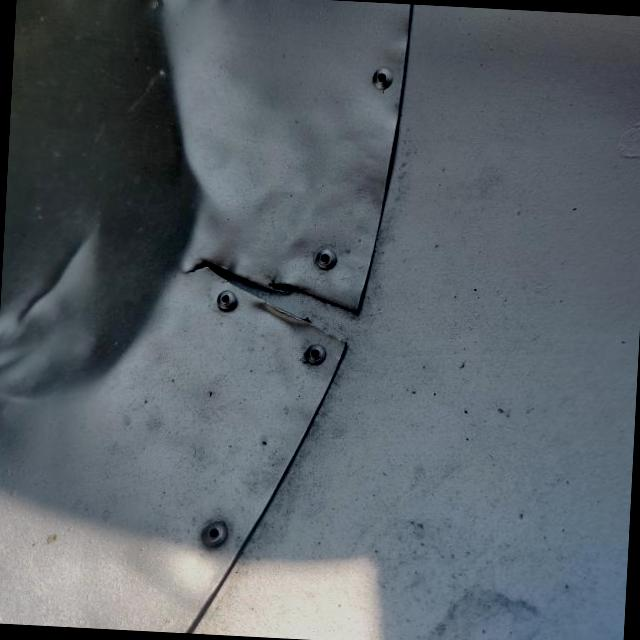dent: (0, 0, 207, 423)
